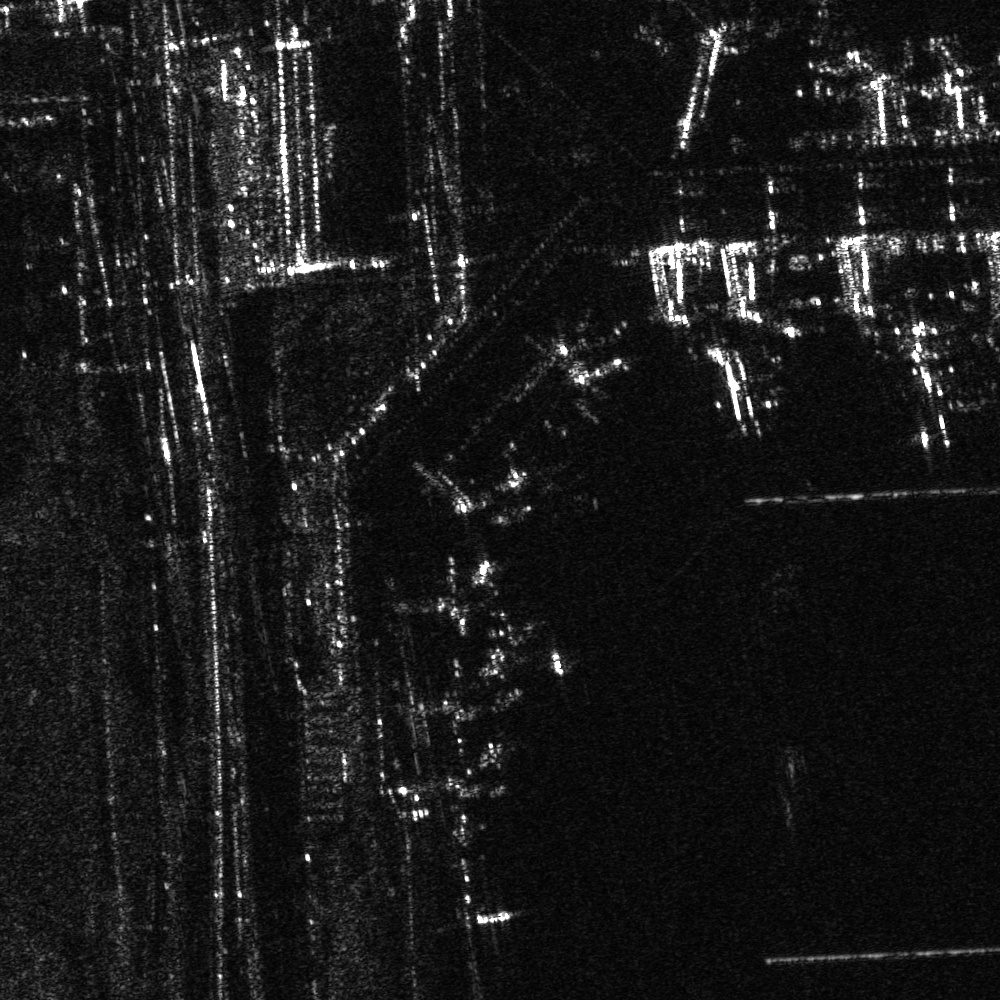A220: (689, 338, 785, 441)
A320/321: (429, 466, 542, 560)
Boeing737: (543, 339, 634, 410)
Boeing787: (858, 315, 966, 448)
